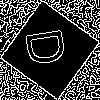D: (25, 25, 76, 68)
